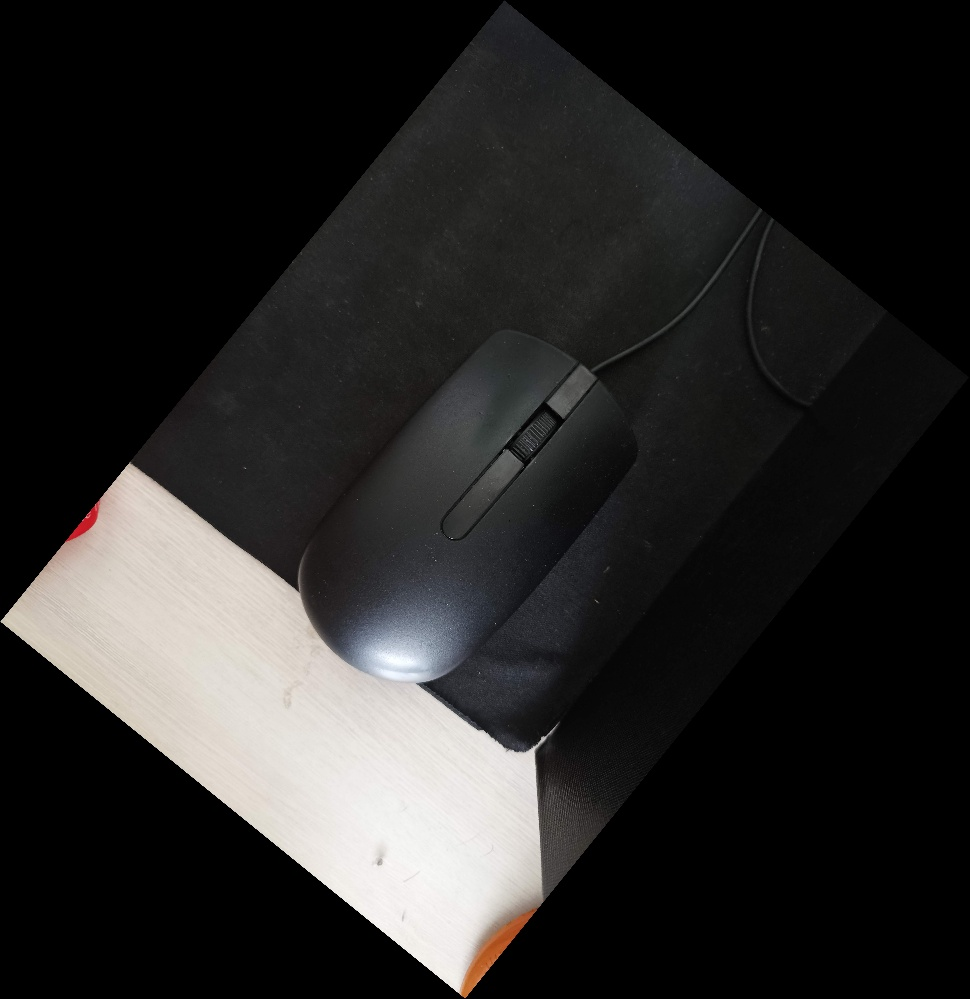mouse: (292, 321, 643, 693)
